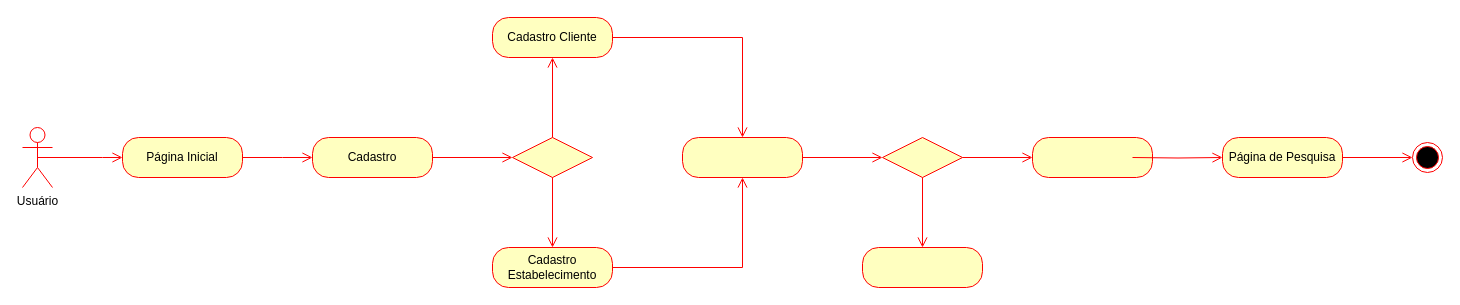
This 1460x305 diagram has some shape labels left out. The shapes that lost their labels are listed below. From the top down, each one's box as (x1, y1, x2, y2) in pixels, then its label:
(682, 136, 802, 178): Login
(1032, 136, 1152, 178): Dashboard Cliente
(862, 246, 982, 288): Dashboard Estabelecimento
